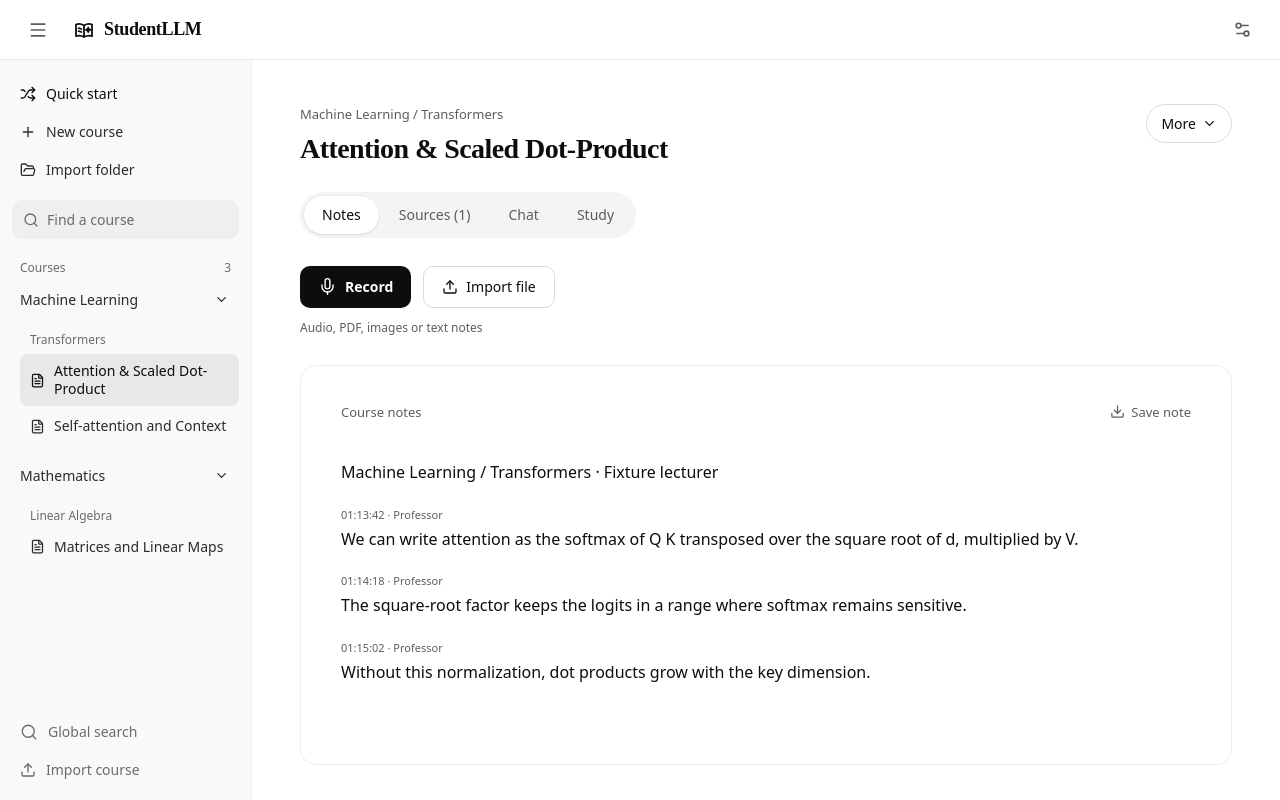
Test: the app with its workspace in IndexedDB › Settings storage line › shows how much of the browser storage is used, without a warning below 80%
Click the button named "Settings" at (1242, 30), box [1222,10,1262,50]
(page scrolled)
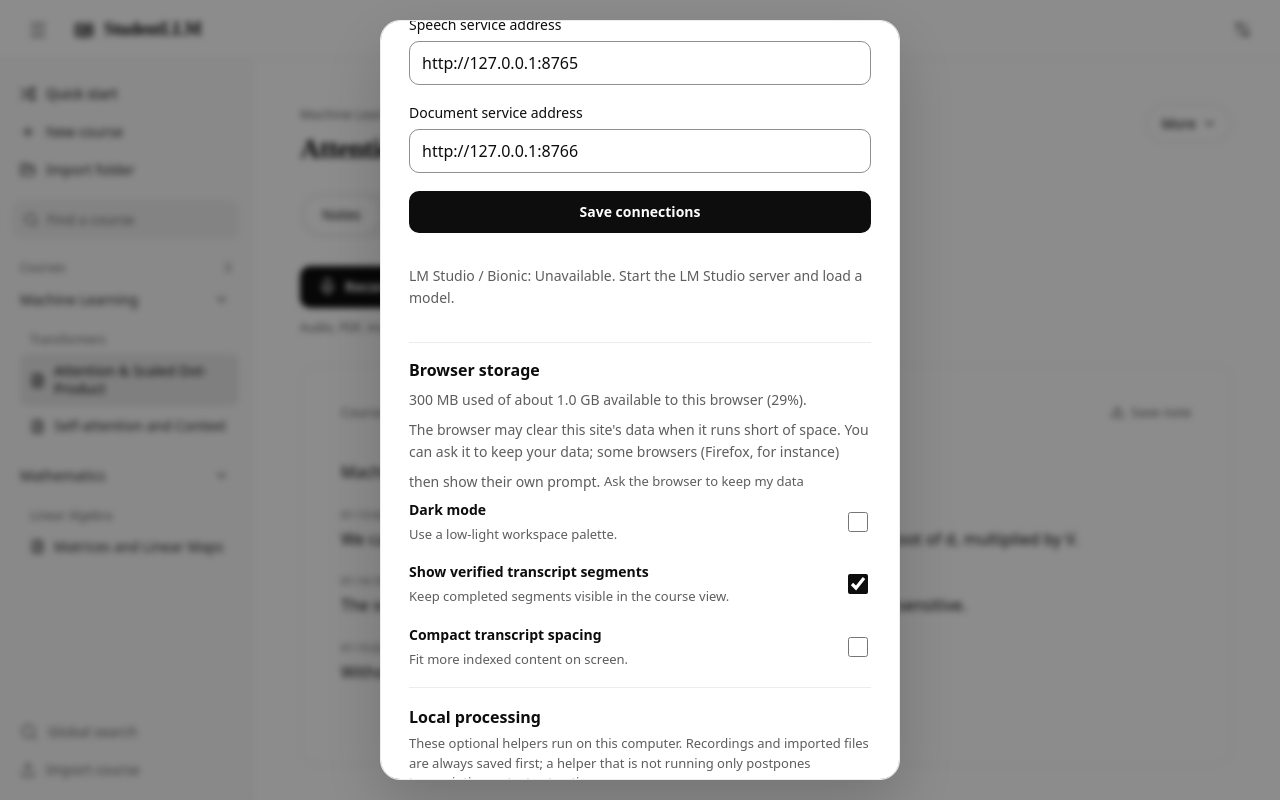
Check: the text "300 MB used of about 1.0 GB available to this browser (29%)." is shown, box [409,389,871,411]
